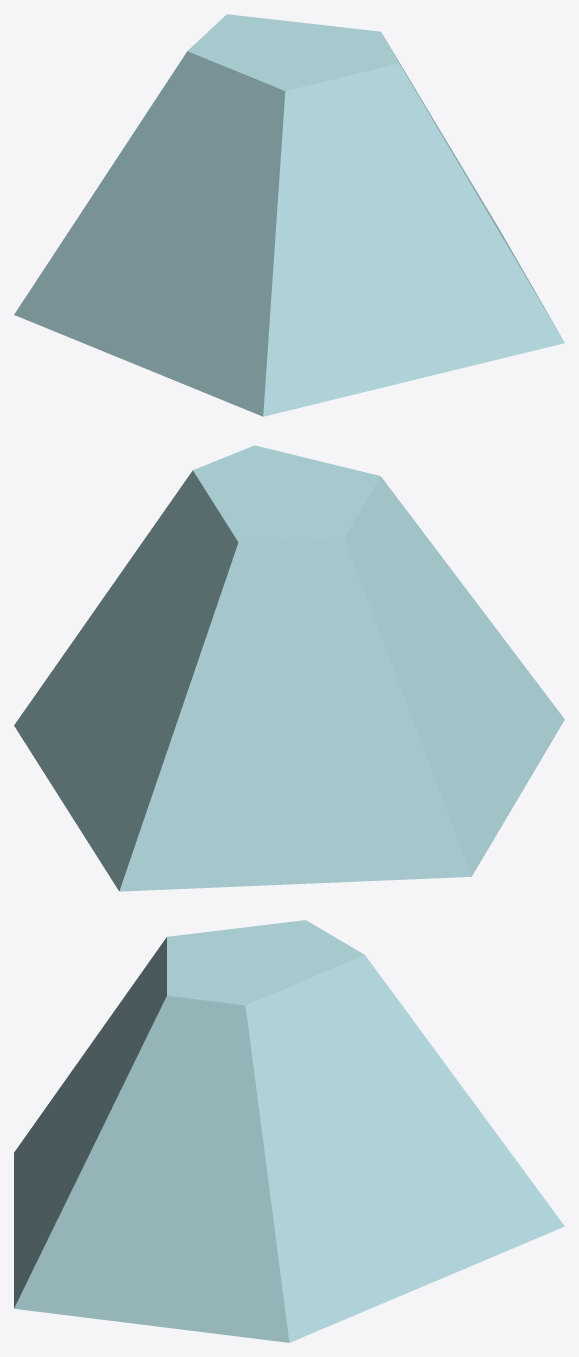
File: stone_smallA.dae
The picture shows the model from 3 angles, top to bottom: view 1: azimuth 30°, elevation 25°; view 2: azimuth 150°, elevation 25°; view 3: azimuth 270°, elevation 25°; orthographic projection. The views are drawn at different scales.
Visible parts, largest first — view 1: stone_smallA; view 2: stone_smallA; view 3: stone_smallA.
Boxes of the visible parts, x1=… form: stone_smallA: x1=14, y1=14, x2=564, y2=416; stone_smallA: x1=14, y1=445, x2=564, y2=891; stone_smallA: x1=14, y1=920, x2=564, y2=1342.
Bounding box in the file's own units: 0.3608 × 0.1912 × 0.3608.
